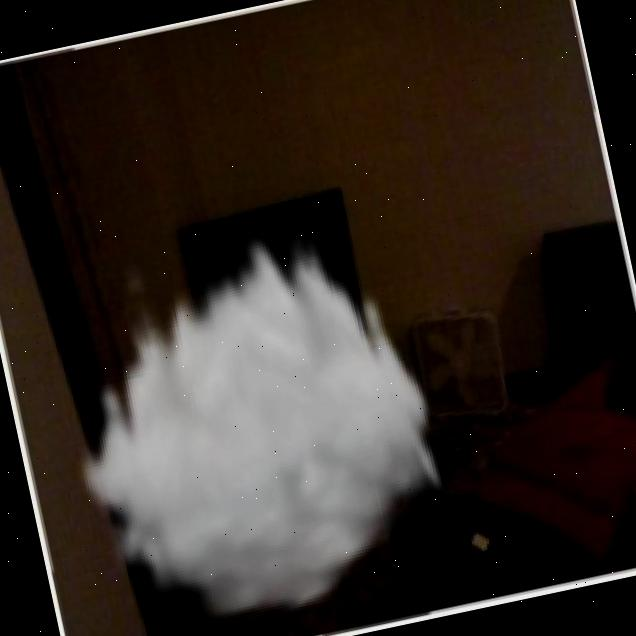smoke: (32, 195, 471, 636)
